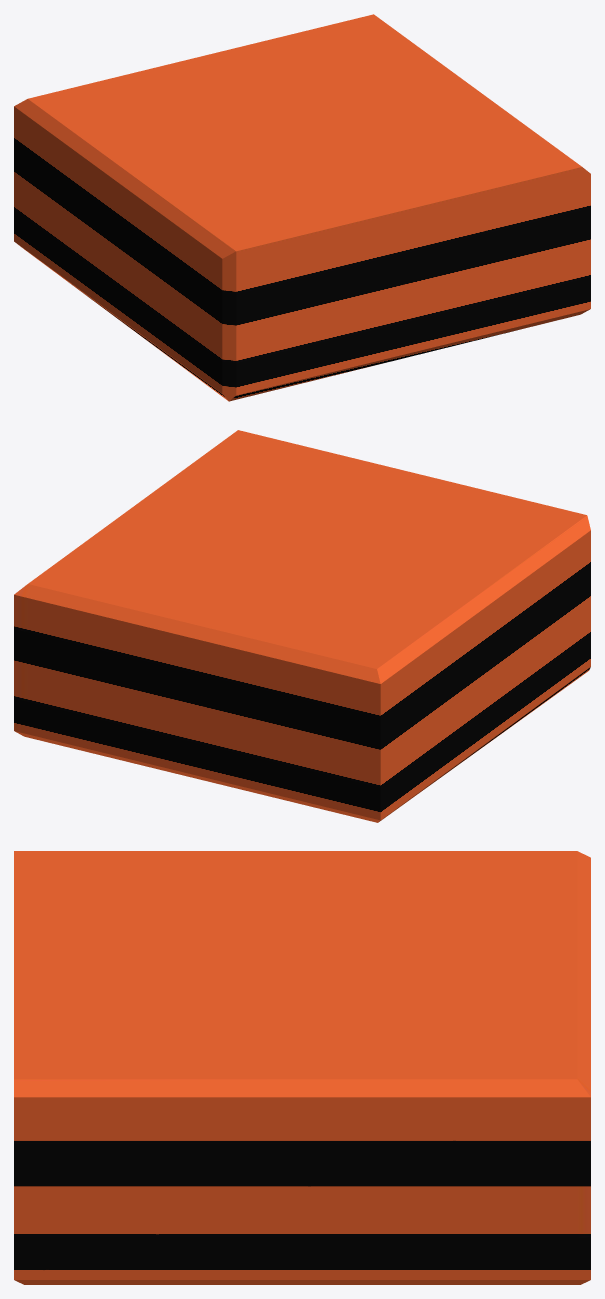
Rendered from orange bassett.FBX.
3 views of the same model, one above another, from view 1: azimuth 30°, elevation 25°; view 2: azimuth 150°, elevation 25°; view 3: azimuth 270°, elevation 25° (orthographic). The views are drawn at different scales.
Parts seen in each view (by area): view 1: Box004; view 2: Box004; view 3: Box004.
Boxes of the visible parts, <box> form: Box004: <box>14,14,590,401</box>; Box004: <box>14,430,590,822</box>; Box004: <box>14,851,590,1284</box>.
Bounding box in the file's own units: 11.56 × 4.59 × 11.76.
1 material, 1 textured.
